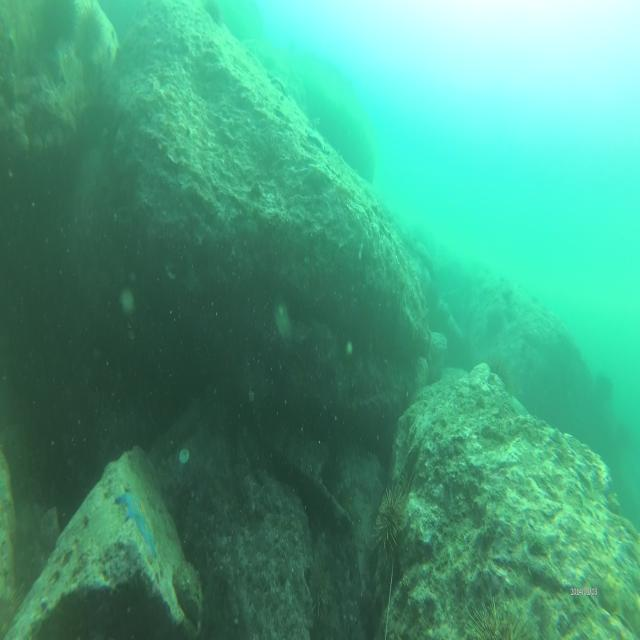echinus: (465, 604, 525, 640), (378, 484, 406, 552), (306, 550, 334, 616)
starfish: (115, 488, 157, 554)
